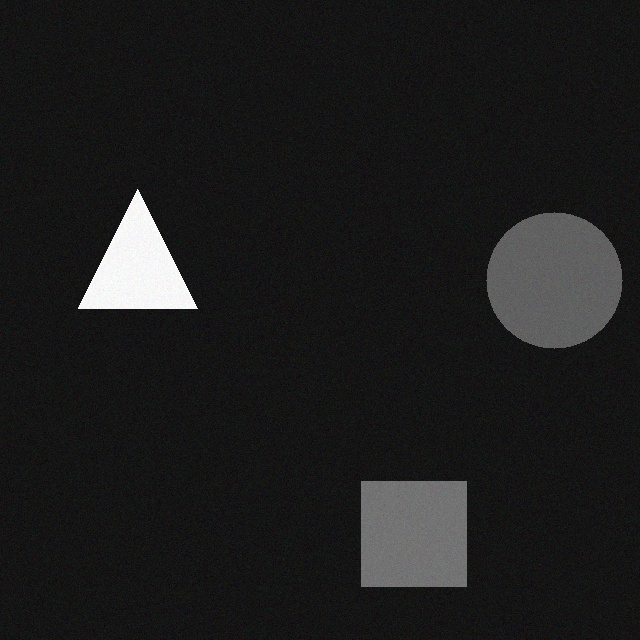circle: (472, 201, 608, 337)
square: (347, 470, 452, 575)
triangle: (64, 178, 183, 297)
